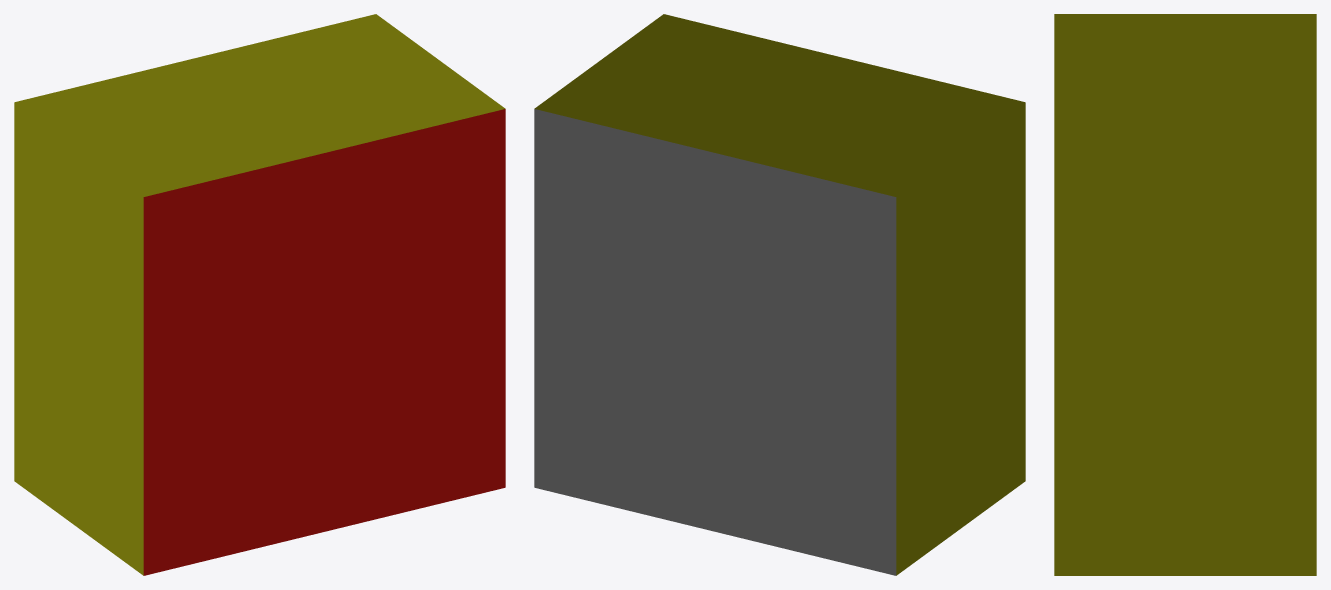
Rendered from idf.obj.
3 views of the same model, side by side, from view 1: azimuth 30°, elevation 25°; view 2: azimuth 150°, elevation 25°; view 3: azimuth 270°, elevation 25° (orthographic).
Size of the model in its own units: 10 by 10 by 6.2.
